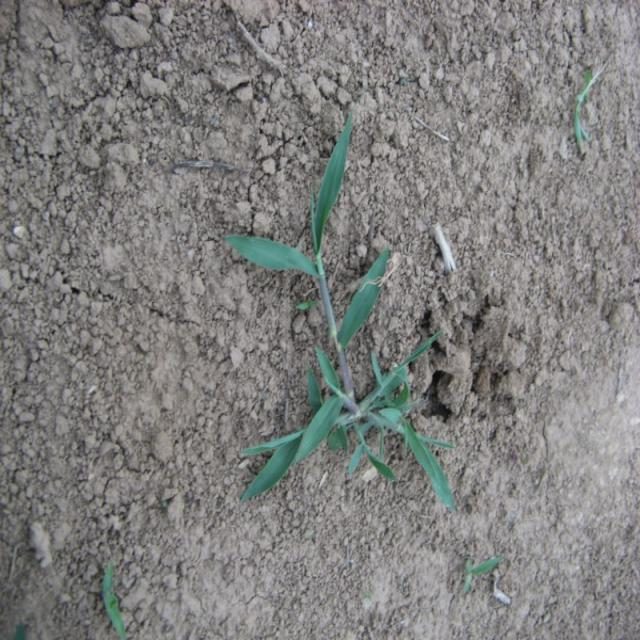bg: (223, 115, 456, 510)
